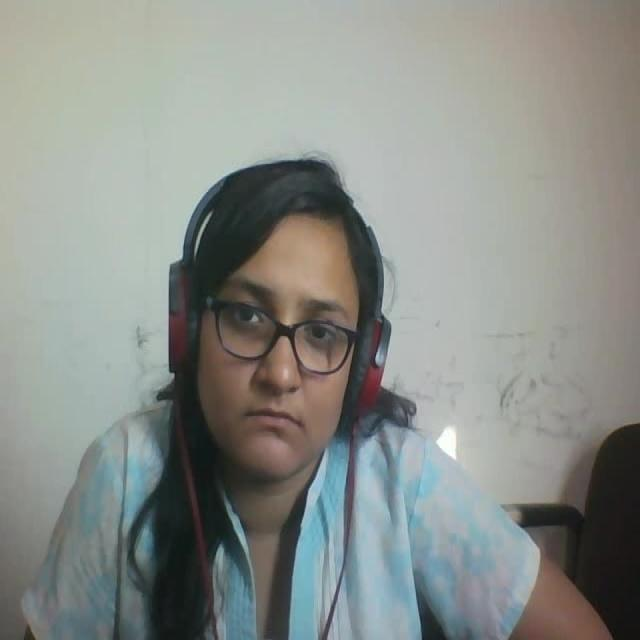Engaged: (145, 142, 398, 528)
